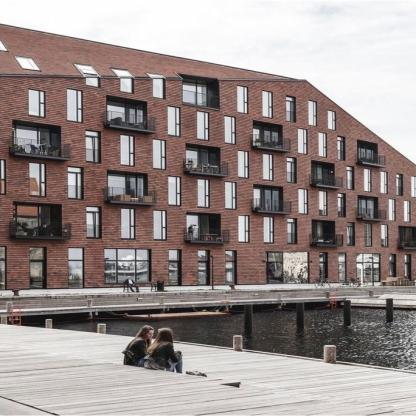Balcony: (10, 137, 70, 159), (10, 219, 71, 237), (102, 112, 157, 131), (183, 158, 229, 175), (183, 89, 220, 109), (184, 227, 229, 242), (251, 134, 290, 150), (252, 198, 291, 213), (309, 173, 343, 188), (357, 151, 386, 166), (311, 233, 344, 246), (358, 207, 386, 220), (398, 236, 416, 248)
Building Outline: (0, 23, 416, 291)
Door: (30, 260, 45, 289), (169, 261, 179, 286), (198, 261, 207, 285), (373, 263, 380, 282), (319, 263, 325, 283)
Facade: (0, 23, 416, 291)
Floor Slab: (1, 112, 416, 173), (34, 77, 385, 142), (0, 153, 415, 199), (0, 194, 415, 226), (0, 237, 415, 251)
Window: (13, 120, 61, 157), (14, 202, 62, 237), (177, 73, 219, 109), (105, 249, 149, 283), (107, 95, 148, 130), (185, 143, 221, 175), (12, 125, 49, 156), (14, 205, 49, 236), (187, 213, 221, 242), (254, 120, 283, 150), (252, 184, 283, 212), (108, 173, 136, 202), (311, 159, 335, 187), (183, 82, 207, 108), (312, 220, 336, 246), (186, 147, 209, 174), (69, 248, 83, 288), (187, 214, 207, 241), (107, 100, 125, 128), (30, 163, 45, 196), (358, 139, 377, 165), (266, 253, 282, 283), (67, 89, 81, 122), (76, 65, 98, 86), (358, 196, 378, 219), (86, 131, 100, 162), (120, 135, 134, 166), (114, 70, 133, 92), (68, 167, 81, 199), (254, 188, 271, 212), (29, 89, 44, 116), (87, 207, 100, 237), (15, 56, 41, 71), (121, 209, 134, 238), (149, 74, 164, 99), (398, 226, 415, 248), (153, 139, 165, 169), (168, 177, 180, 205), (168, 106, 179, 136), (154, 210, 165, 239), (197, 111, 208, 140), (198, 179, 209, 207), (358, 199, 373, 219), (226, 251, 235, 284), (357, 263, 372, 282), (225, 116, 235, 144), (238, 216, 249, 241), (238, 151, 248, 177), (238, 86, 247, 113), (226, 182, 235, 209), (263, 154, 272, 180), (264, 217, 273, 242), (312, 222, 322, 244), (263, 91, 271, 118), (0, 247, 5, 290), (286, 97, 294, 122), (357, 253, 379, 262), (30, 247, 45, 260), (288, 219, 296, 243), (299, 189, 307, 213), (298, 129, 306, 153), (339, 253, 345, 283), (287, 157, 294, 182), (319, 132, 326, 157), (309, 101, 316, 126), (400, 228, 409, 247), (319, 191, 326, 215), (389, 254, 395, 281), (328, 110, 336, 130), (347, 223, 353, 246), (338, 193, 344, 216), (338, 137, 344, 160), (405, 254, 410, 281), (365, 224, 371, 246), (0, 160, 4, 193), (347, 167, 353, 189), (364, 169, 370, 191), (381, 225, 387, 246), (389, 199, 395, 220), (254, 125, 260, 145), (358, 145, 364, 164), (404, 201, 409, 222), (381, 172, 386, 193), (169, 250, 179, 260), (198, 250, 207, 260), (412, 176, 416, 197), (397, 175, 401, 195), (0, 40, 7, 51), (319, 253, 325, 262)
